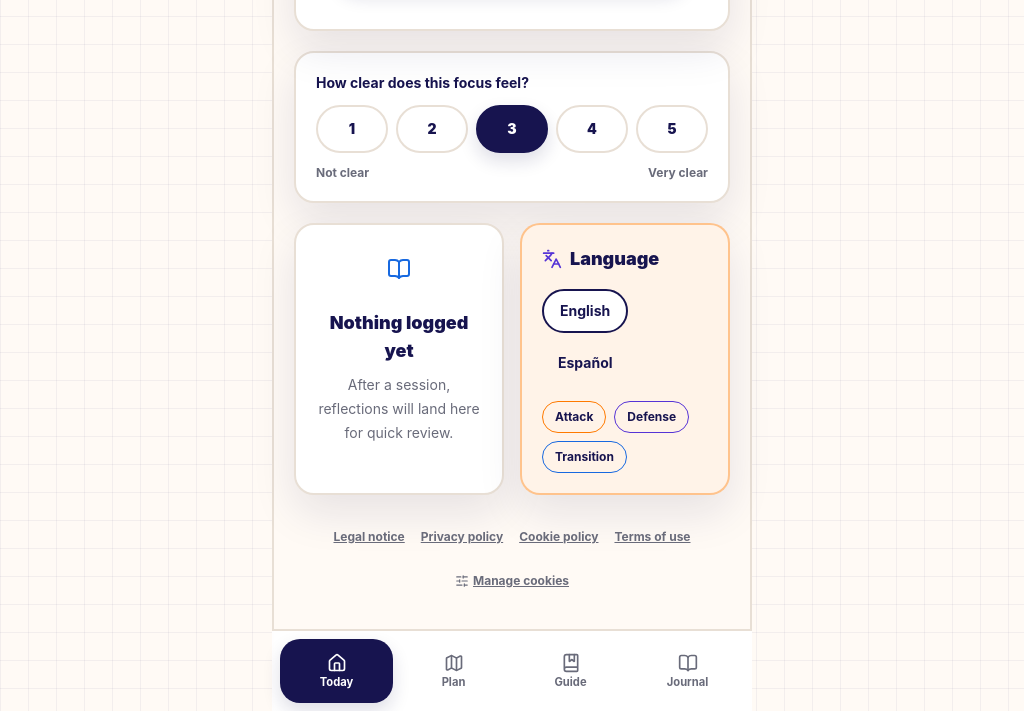
Test case: AppShell › can switch the shell language
The width and height of the screenshot is (1024, 711).
(page scrolled)
Click the button "Español". click: (585,363)
box: [542, 341, 628, 385]
(page scrolled)
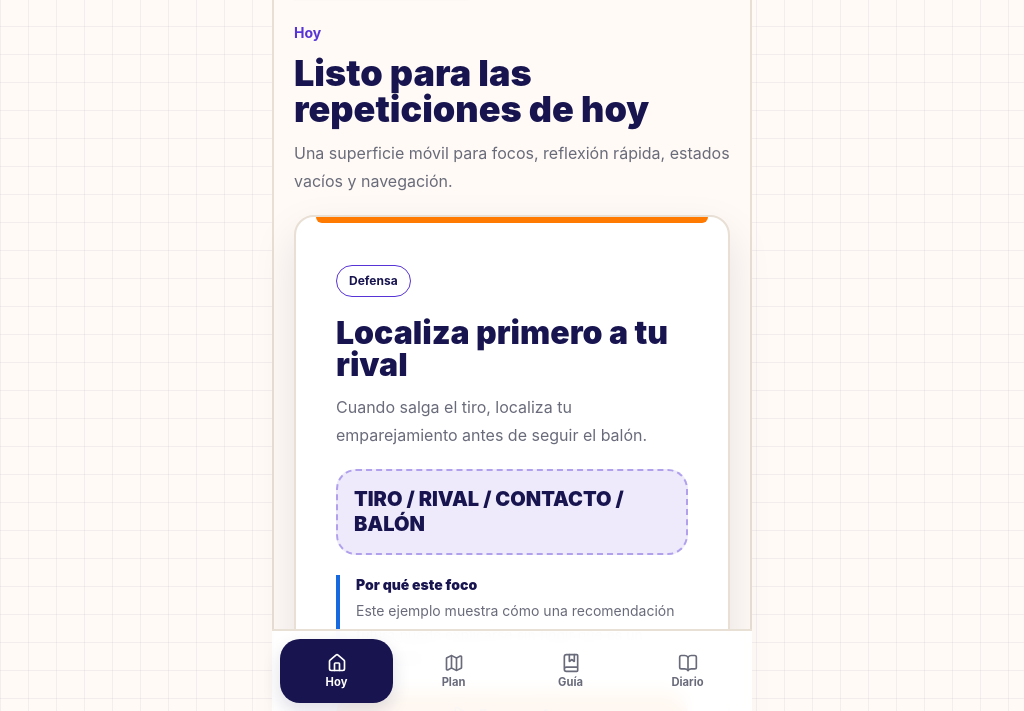
Expected: the heading "Listo para las repeticiones de hoy" is shown, [294, 51, 649, 131]
